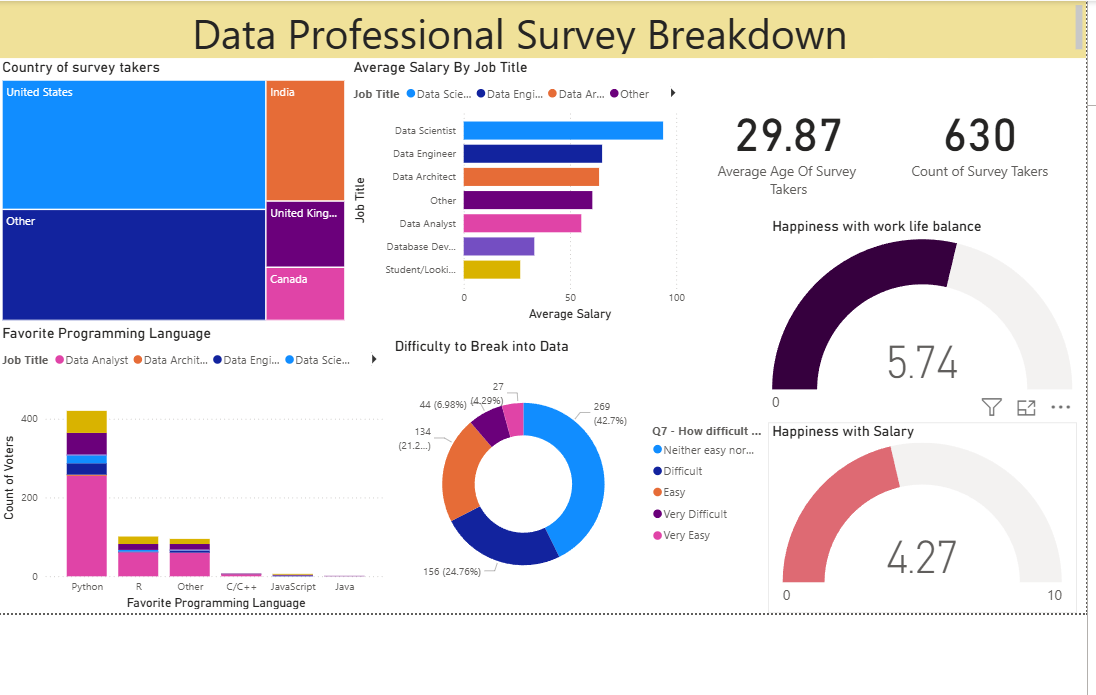

The dashboard page shown, as its layout file describes it:
{"tool":"powerbi","page":{"name":"Page 1","canvas":[1280,720],"ordinal":0},"visuals":[{"type":"textbox","box":[0,0,1280.3,67.2],"z":0},{"type":"card","fields":{"Values":["Count(Data Professional Survey.Unique ID)"]},"box":[1028.9,67.6,251.4,186.7],"z":1},{"type":"card","fields":{"Values":["Avg(Data Professional Survey.Q10 - Current Age)"]},"box":[812.9,67.6,233.7,186.7],"z":2},{"type":"barChart","title":"Average Salary By Job Title","fields":{"Category":["Data Professional Survey.Q1 - Which Title Best Fits your Current Role?.1"],"Y":["Avg(Data Professional Survey.Average Salary)"],"Series":["Data Professional Survey.Q1 - Which Title Best Fits your Current Role?.1"]},"box":[413,67.6,399.8,313.1],"z":3},{"type":"columnChart","title":"Favorite Programming Language","fields":{"Category":["Data Professional Survey.Q5 - Favorite Programming Language.1"],"Y":["CountNonNull(Data Professional Survey.Unique ID)"],"Series":["Data Professional Survey.Q1 - Which Title Best Fits your Current Role?.1"]},"box":[0,380.7,461.6,339.6],"z":4},{"type":"treemap","title":"Country of survey takers","fields":{"Values":["CountNonNull(Data Professional Survey.Q11 - Which Country do you live in?.1)"],"Group":["Data Professional Survey.Q11 - Which Country do you live in?.1"]},"box":[0,67.6,413,313.1],"z":5},{"type":"gauge","title":"Happiness with work life balance","fields":{"Y":["Avg(Data Professional Survey.Q6 - How Happy are you in your Current Position with the following? (Work/Life Balance))"],"MinValue":["Min(Data Professional Survey.Q6 - How Happy are you in your Current Position with the following? (Work/Life Balance))"],"MaxValue":["Max(Data Professional Survey.Q6 - How Happy are you in your Current Position with the following? (Work/Life Balance))1"]},"box":[905.5,254.3,363.1,241.1],"z":6},{"type":"gauge","title":"Happiness with Salary","fields":{"Y":["Avg(Data Professional Survey.Q6 - How Happy are you in your Current Position with the following? (Salary))"],"MinValue":["Min(Data Professional Survey.Q6 - How Happy are you in your Current Position with the following? (Salary))"],"MaxValue":["Max(Data Professional Survey.Q6 - How Happy are you in your Current Position with the following? (Salary))"]},"box":[905.5,495.4,363.1,224.9],"z":7},{"type":"donutChart","title":"Difficulty to Break into Data","fields":{"Category":["Data Professional Survey.Q7 - How difficult was it for you to break into Data?"],"Y":["CountNonNull(Data Professional Survey.Q7 - How difficult was it for you to break into Data?)"]},"box":[461.6,395.4,443.9,324.9],"z":8}]}

Visuals, with their boxes in screenshot pixels (x1, y1, x2, y2):
textbox: 0:0:1095:42
card - Count(Data Professional Survey.Unique ID): 878:42:1095:206
card - Avg(Data Professional Survey.Q10 - Current Age): 689:42:893:206
"Average Salary By Job Title" barChart: 339:42:689:316
"Favorite Programming Language" columnChart: 0:316:381:613
"Country of survey takers" treemap: 0:42:339:316
"Happiness with work life balance" gauge: 770:206:1088:417
"Happiness with Salary" gauge: 770:417:1088:613
"Difficulty to Break into Data" donutChart: 381:329:770:613
